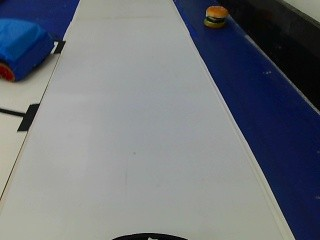burger: (199, 3, 231, 31)
